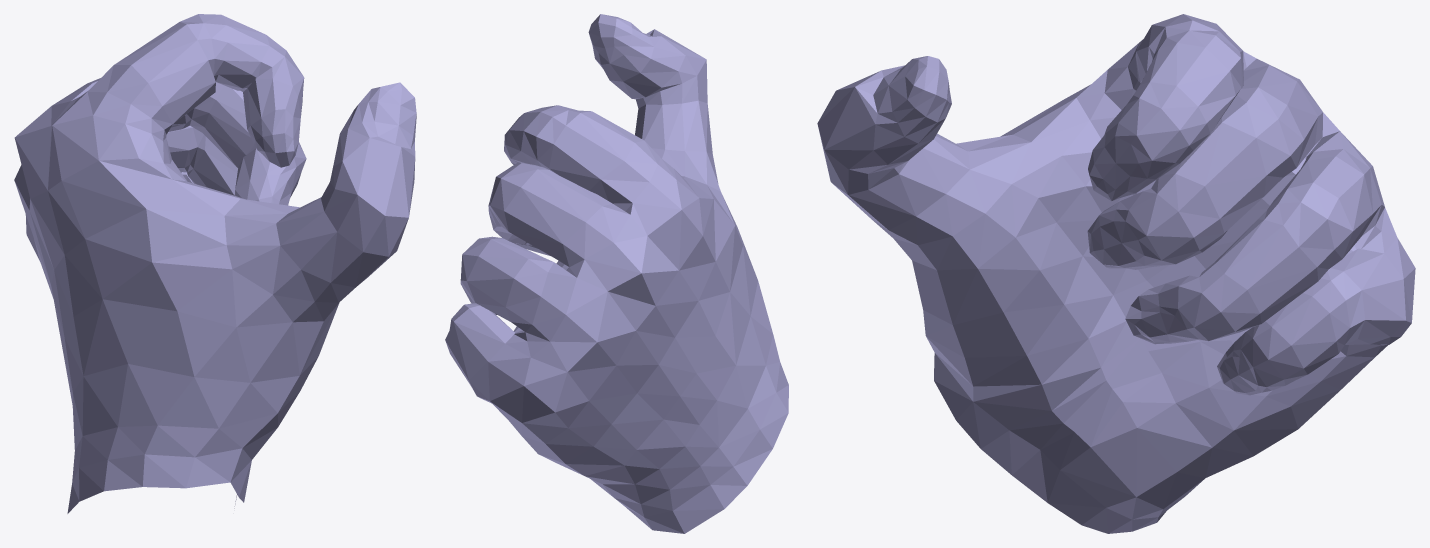
The model's file is frame_0006_source_000006_hand.glb.
3 renders of one model, left to right at view 1: azimuth 30°, elevation 25°; view 2: azimuth 150°, elevation 25°; view 3: azimuth 270°, elevation 25°, orthographic. The views are drawn at different scales.
Visible parts, largest first — view 1: world; view 2: world; view 3: world.
Part boxes in pixels (left/top/right/bottom): world: left=14, top=14, right=416, bottom=513; world: left=445, top=14, right=788, bottom=533; world: left=817, top=14, right=1415, bottom=533.
Size of the model in its own units: 0.0677 by 0.1154 by 0.1147.
